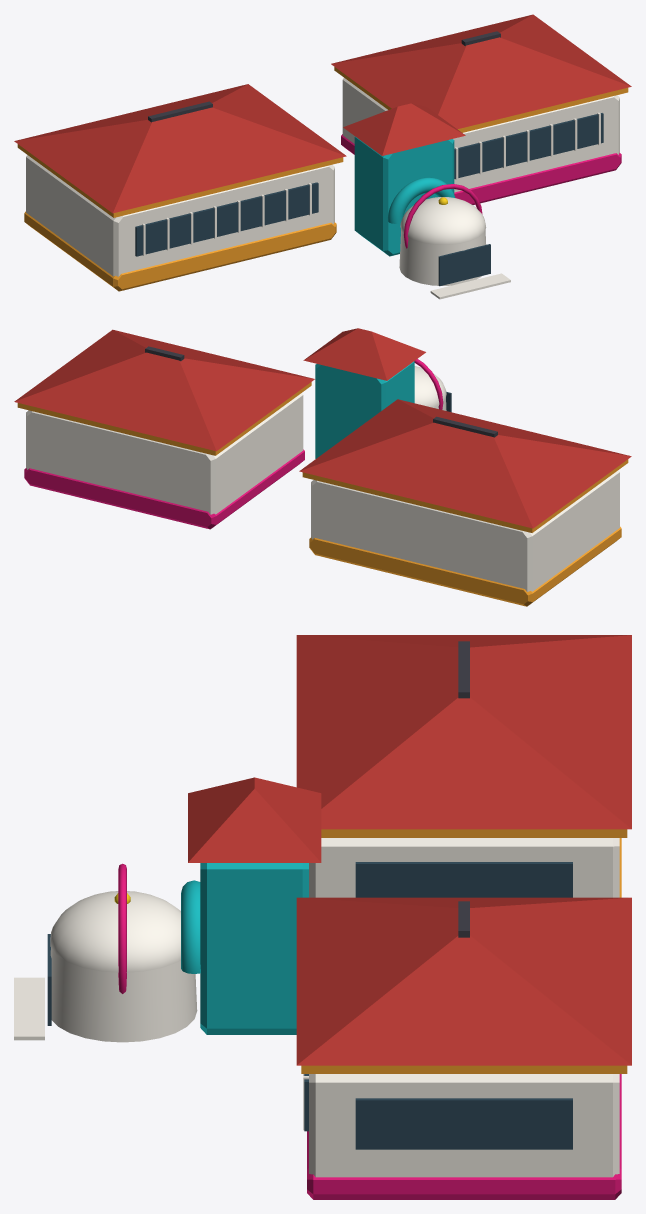
The model's file is arcade-complex.glb.
3 views of the same model, one above another, from view 1: azimuth 30°, elevation 25°; view 2: azimuth 150°, elevation 25°; view 3: azimuth 270°, elevation 25° (orthographic). The views are drawn at different scales.
Parts seen in each view (by area): view 1: arcade_west_roof, arcade_east_roof, arcade_west_walls, arcade_east_walls, entry_tower, arcade_west_glazing_south, arcade_west_band, arcade_east_glazing_south, entry_tower_roof, entry_dome, arcade_east_band, entry_dome_drum (+9 smaller); view 2: arcade_west_roof, arcade_east_roof, arcade_west_walls, arcade_east_walls, entry_tower, arcade_west_band, arcade_east_band, entry_tower_roof, arcade_west_fascia, arcade_east_fascia, entry_dome, arcade_west_ridge; view 3: arcade_west_roof, arcade_east_roof, arcade_east_walls, entry_tower, arcade_east_glazing_east, arcade_west_walls, entry_tower_roof, entry_dome_drum, entry_dome, arcade_west_glazing_east, arcade_east_band, arcade_east_fascia (+4 smaller).
Boxes of the visible parts, left/top/right/bottom form: arcade_west_roof: left=14, top=84, right=346, bottom=213; arcade_east_roof: left=331, top=14, right=631, bottom=129; arcade_west_walls: left=26, top=155, right=334, bottom=276; arcade_east_walls: left=342, top=78, right=619, bottom=192; entry_tower: left=354, top=136, right=454, bottom=256; arcade_west_glazing_south: left=135, top=182, right=318, bottom=256; arcade_west_band: left=24, top=211, right=336, bottom=291; arcade_east_glazing_south: left=454, top=113, right=603, bottom=178; entry_tower_roof: left=343, top=103, right=465, bottom=155; entry_dome: left=400, top=197, right=486, bottom=244; arcade_east_band: left=341, top=134, right=621, bottom=204; entry_dome_drum: left=399, top=229, right=486, bottom=285; arcade_west_roof: left=299, top=399, right=631, bottom=528; arcade_east_roof: left=14, top=329, right=314, bottom=451; arcade_west_walls: left=311, top=470, right=619, bottom=591; arcade_east_walls: left=26, top=393, right=303, bottom=514; entry_tower: left=315, top=361, right=414, bottom=458; arcade_west_band: left=309, top=526, right=621, bottom=606; arcade_east_band: left=24, top=449, right=304, bottom=529; entry_tower_roof: left=303, top=328, right=425, bottom=380; arcade_west_fascia: left=302, top=459, right=628, bottom=532; arcade_east_fascia: left=17, top=382, right=311, bottom=455; entry_dome: left=414, top=366, right=446, bottom=407; arcade_west_ridge: left=433, top=416, right=497, bottom=437; arcade_west_roof: left=296, top=635, right=631, bottom=829; arcade_east_roof: left=296, top=897, right=631, bottom=1065; arcade_east_walls: left=309, top=1074, right=619, bottom=1177; entry_tower: left=200, top=863, right=308, bottom=1034; arcade_east_glazing_east: left=355, top=1098, right=572, bottom=1149; arcade_west_walls: left=309, top=838, right=619, bottom=897; entry_tower_roof: left=188, top=777, right=321, bottom=862; entry_dome_drum: left=50, top=947, right=197, bottom=1042; entry_dome: left=50, top=891, right=180, bottom=972; arcade_west_glazing_east: left=355, top=862, right=572, bottom=897; arcade_east_band: left=307, top=1074, right=621, bottom=1199; arcade_east_fascia: left=301, top=1065, right=627, bottom=1073.
Size of the model in its own units: 65.6 by 16.2 by 39.8.
